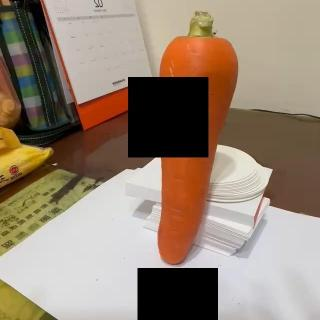carrot: (154, 11, 240, 269)
